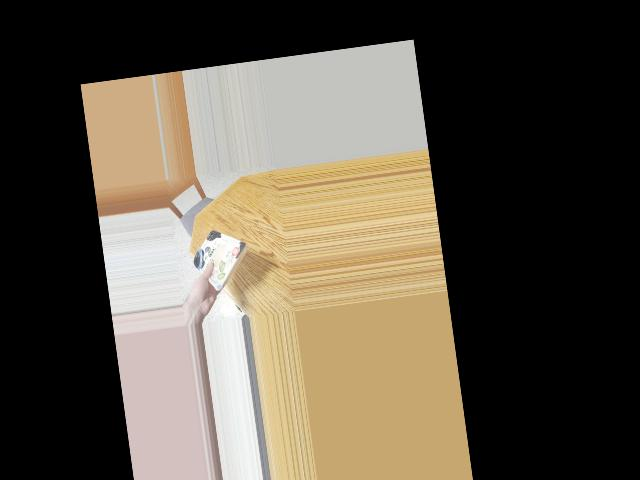cheese: (195, 226, 247, 285)
